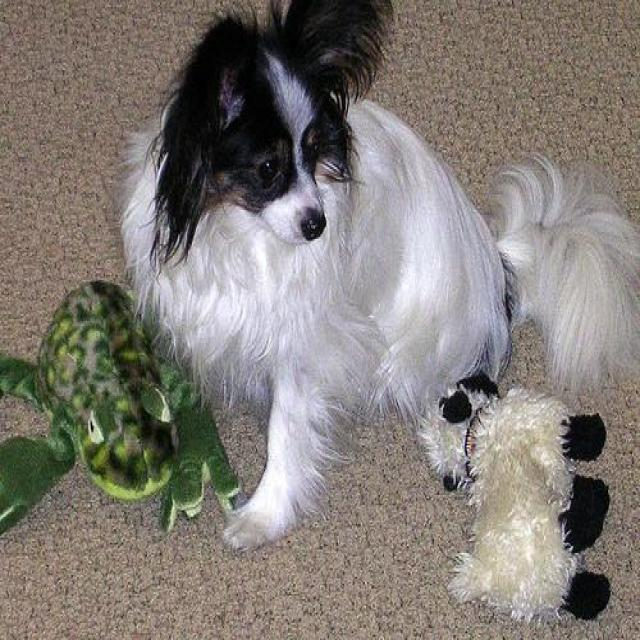papillon: (120, 3, 636, 558)
